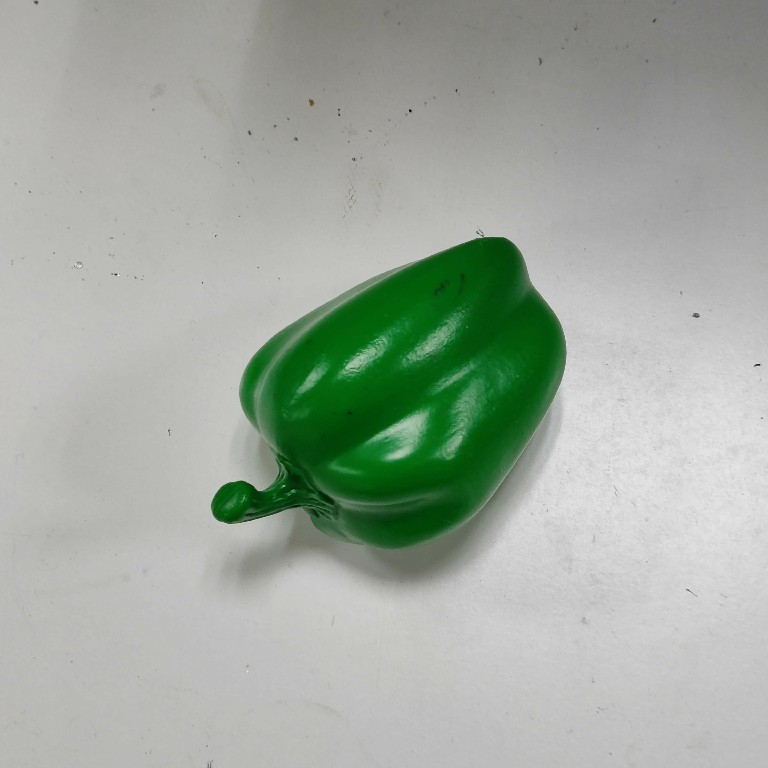fruit_pepper: (206, 233, 571, 554)
